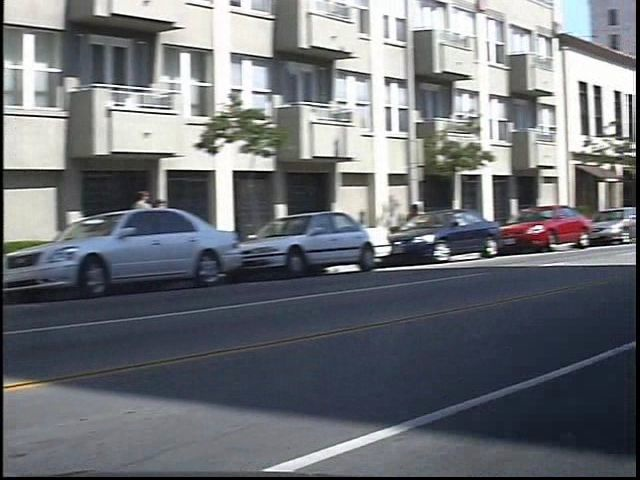person: (145, 183, 169, 263), (165, 194, 186, 258)
